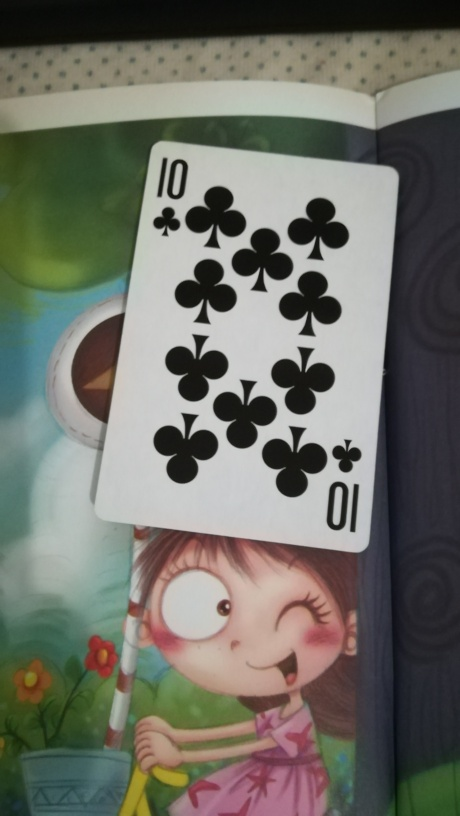mh 10: (91, 140, 401, 552)
